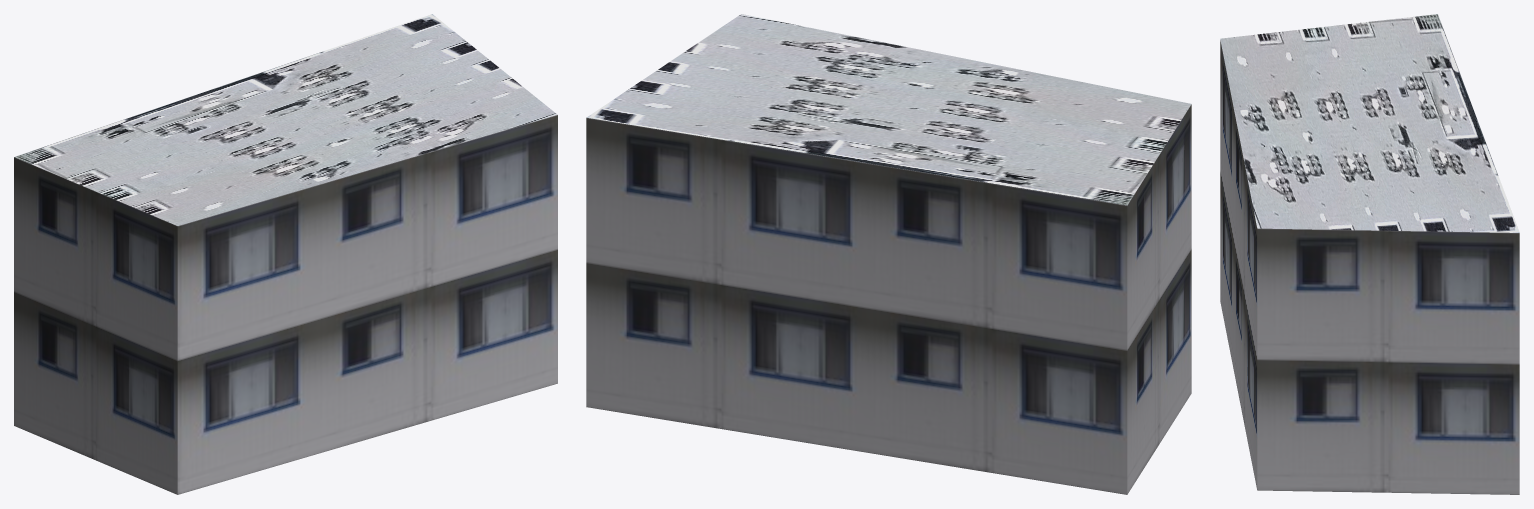
Rendered from ResTex__2684.fbx.
The picture shows the model from 3 angles, left to right: view 1: azimuth 30°, elevation 25°; view 2: azimuth 150°, elevation 25°; view 3: azimuth 270°, elevation 25°; orthographic projection. The views are drawn at different scales.
Visible parts, largest first — view 1: CityEngineMaterial_9_m, CityEngineMaterial_8_m; view 2: CityEngineMaterial_9_m, CityEngineMaterial_8_m; view 3: CityEngineMaterial_9_m, CityEngineMaterial_8_m.
Boxes of the visible parts, x1=… form: CityEngineMaterial_9_m: x1=14, y1=115, x2=557, y2=494; CityEngineMaterial_8_m: x1=14, y1=14, x2=557, y2=225; CityEngineMaterial_9_m: x1=586, y1=104, x2=1191, y2=494; CityEngineMaterial_8_m: x1=587, y1=14, x2=1191, y2=205; CityEngineMaterial_9_m: x1=1220, y1=40, x2=1519, y2=494; CityEngineMaterial_8_m: x1=1220, y1=14, x2=1519, y2=232.
Size of the model in its own units: 10.76 by 6 by 6.22.
Materials: 2 (2 with a texture image).
